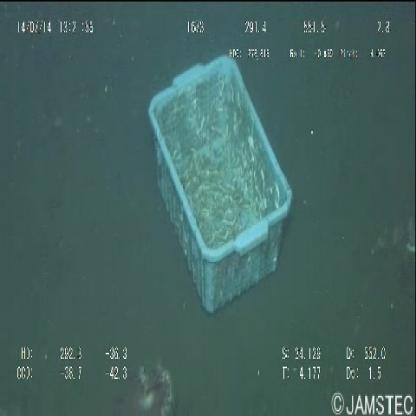Rác: (142, 41, 299, 324)
